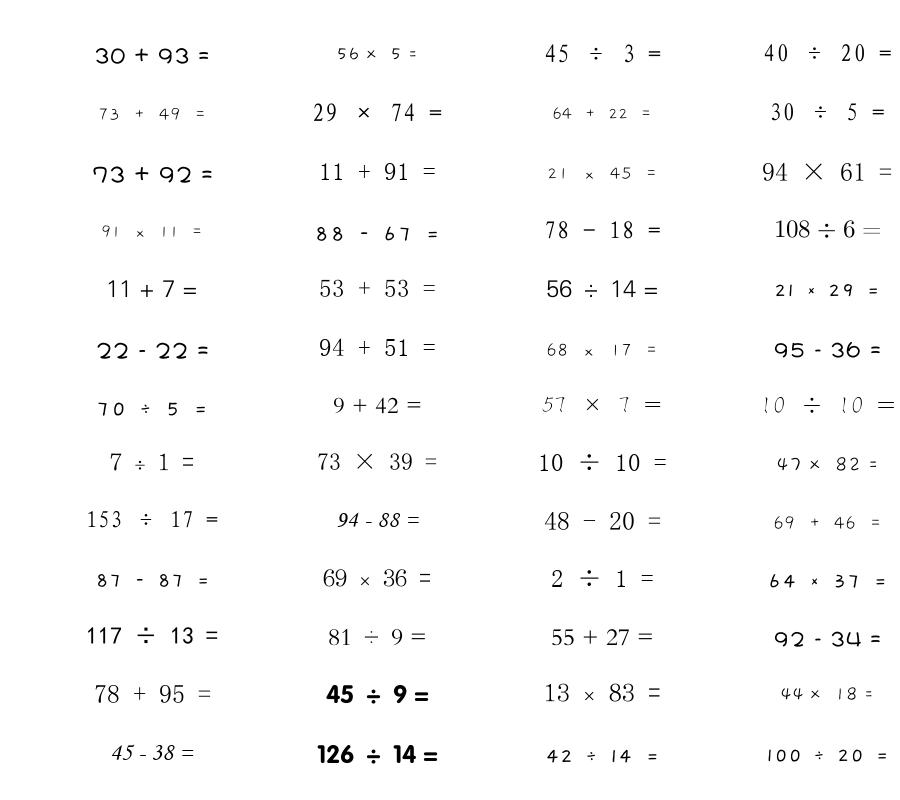MQ: (312, 103, 442, 122), (762, 162, 892, 181), (317, 744, 438, 764), (86, 510, 218, 528), (763, 44, 892, 62), (538, 453, 667, 471), (760, 397, 895, 414), (86, 627, 218, 644), (544, 44, 661, 63), (544, 683, 661, 702), (546, 279, 659, 298), (544, 221, 661, 239), (319, 279, 436, 297), (319, 338, 436, 356), (544, 512, 661, 530), (94, 685, 211, 703), (769, 103, 885, 121), (326, 684, 429, 704), (92, 166, 213, 183), (542, 396, 662, 413), (317, 453, 437, 470), (319, 163, 436, 180), (323, 569, 431, 587), (774, 220, 881, 238), (96, 342, 209, 359), (314, 226, 440, 241), (94, 48, 210, 64), (551, 569, 654, 587), (774, 341, 881, 358), (551, 629, 654, 646), (774, 631, 881, 647), (328, 629, 427, 646), (767, 574, 887, 588), (766, 749, 889, 762), (545, 749, 659, 763), (546, 343, 658, 357), (96, 402, 208, 416), (106, 280, 198, 297), (776, 457, 878, 472), (98, 107, 207, 121), (773, 516, 882, 530), (333, 397, 422, 414), (110, 453, 194, 471), (95, 574, 210, 587), (547, 167, 658, 180), (774, 284, 880, 297), (110, 744, 194, 760), (101, 225, 203, 238), (780, 687, 874, 701), (552, 107, 652, 120), (336, 512, 419, 527), (336, 47, 418, 61)
